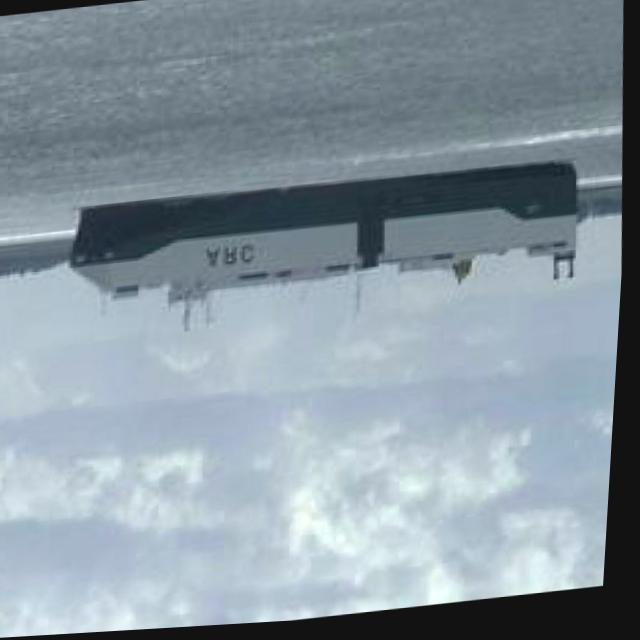ship2: (72, 169, 591, 334)
